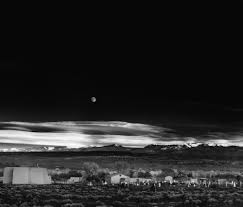moon: (87, 95, 98, 105)
